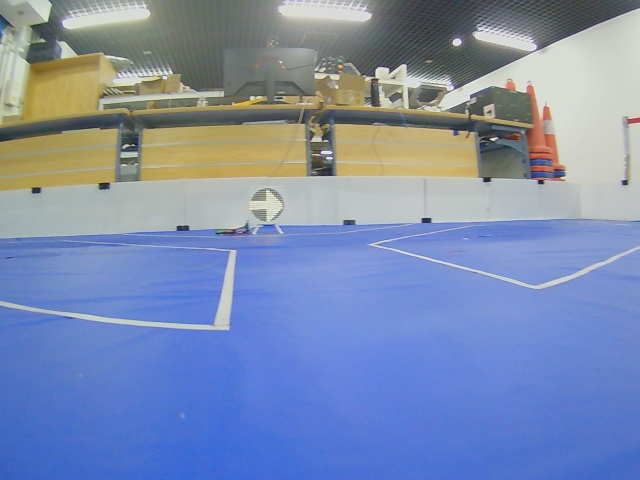right_yellow: (249, 188, 284, 223)
